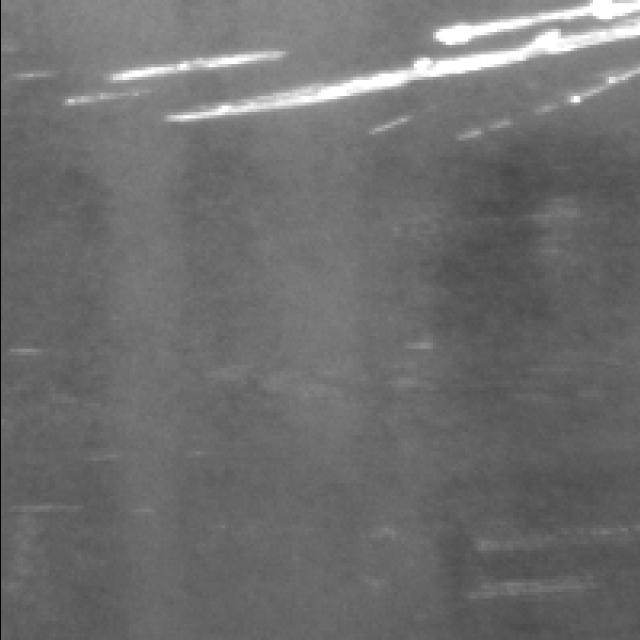scratches: (172, 58, 500, 124), (435, 0, 638, 55), (94, 54, 294, 82)
